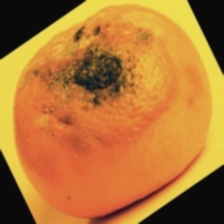orange: (50, 50, 191, 218)
